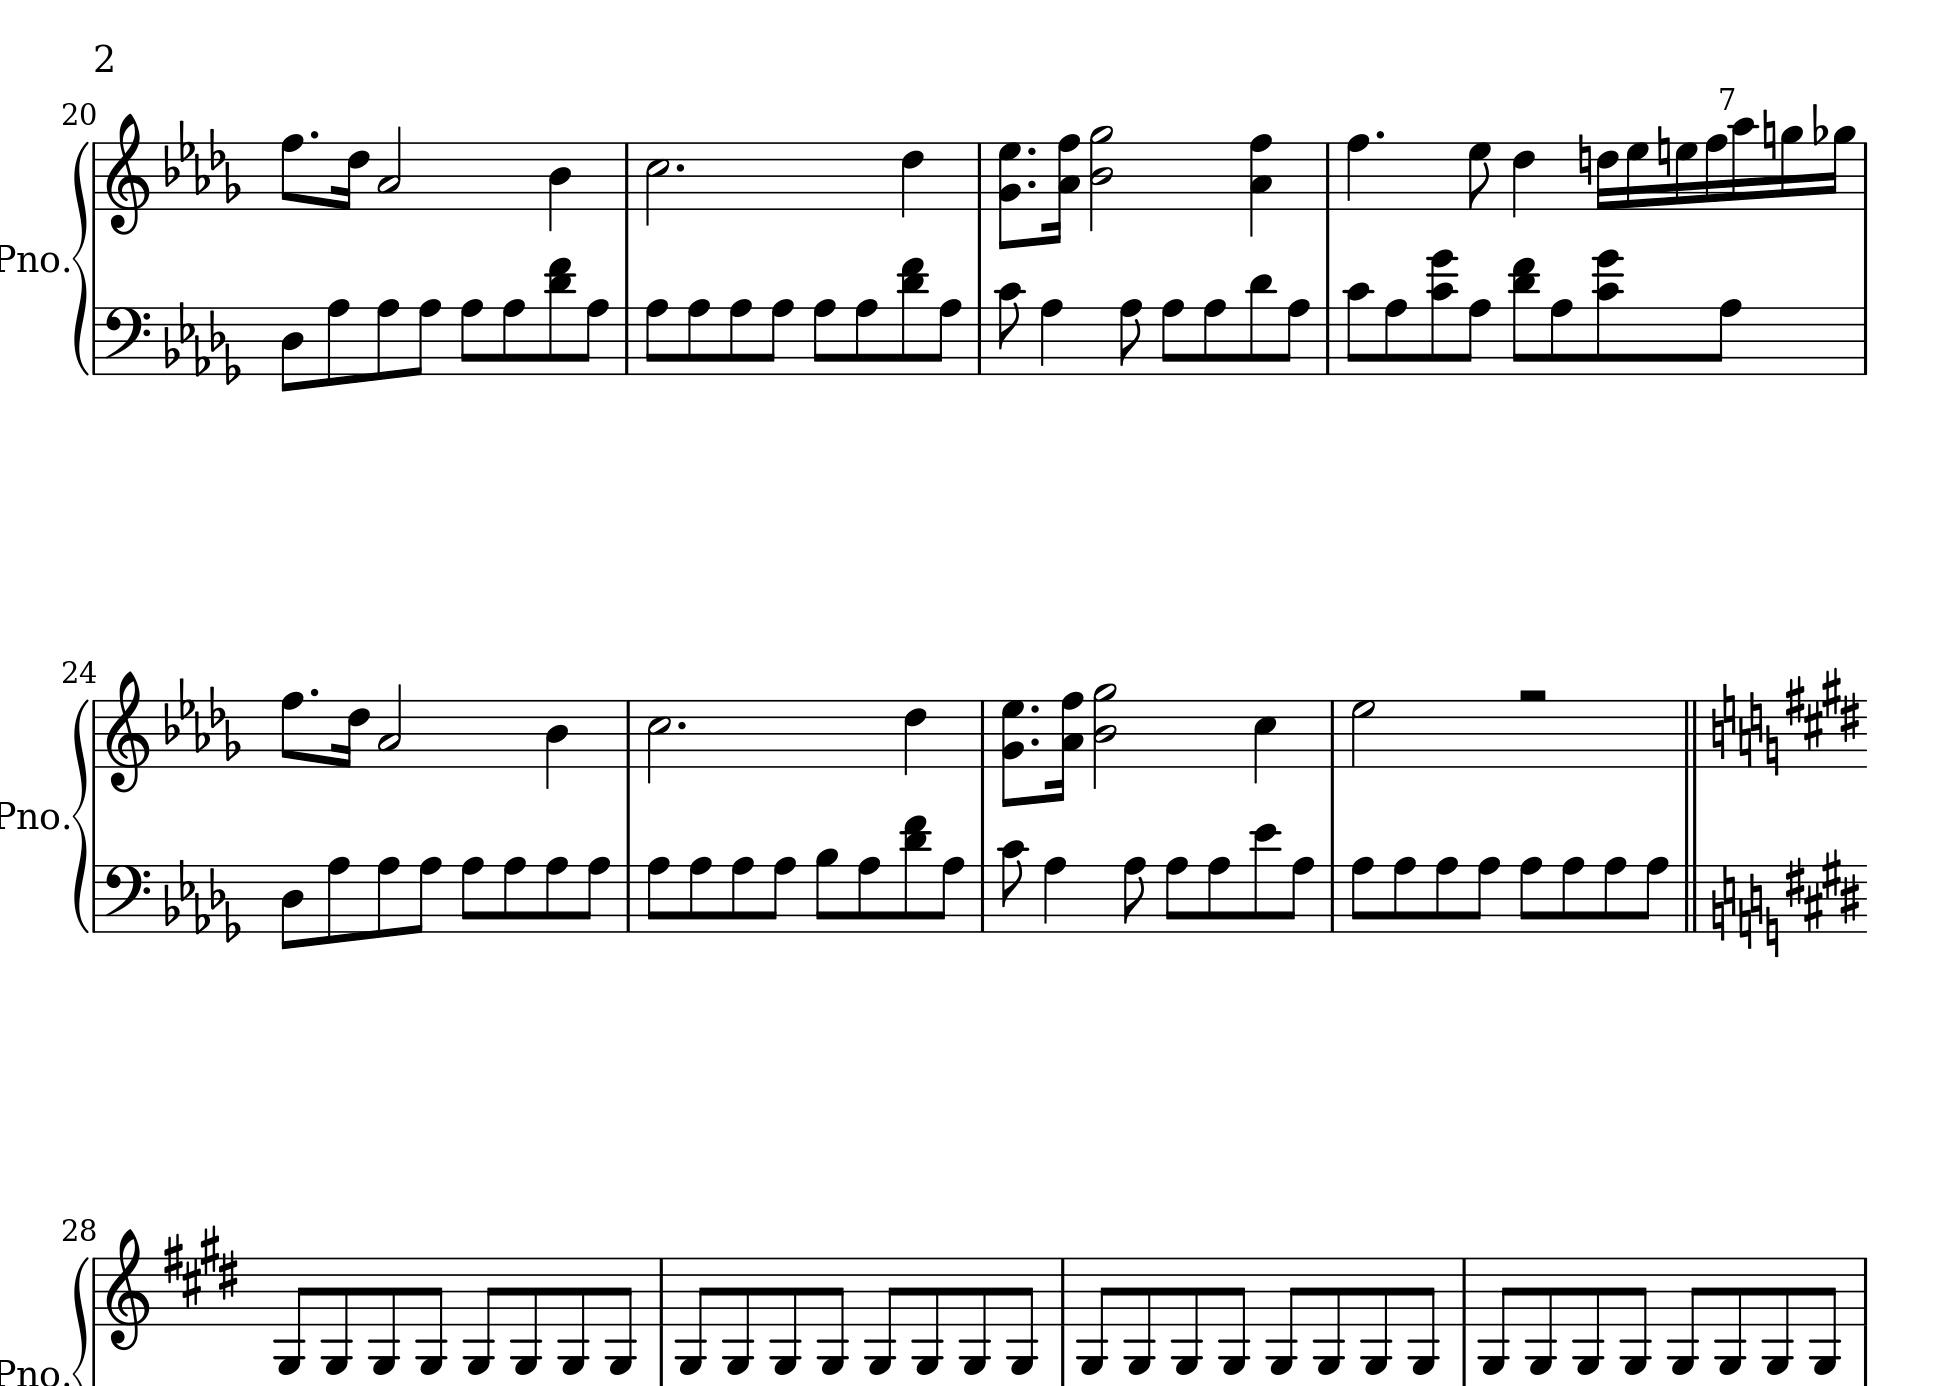0: (79, 99, 96, 126)
16_10: (1731, 115, 1758, 211)
16_3_8: (1041, 133, 1080, 244), (1047, 688, 1086, 799)
16_6: (333, 697, 370, 769), (334, 141, 370, 211), (1596, 139, 1620, 211)
16_7: (1626, 139, 1650, 211), (1674, 139, 1698, 211)
16_8: (1704, 132, 1728, 211)
16_9: (1825, 123, 1857, 211), (1779, 123, 1803, 211)
2: (91, 40, 114, 72), (60, 1216, 79, 1243), (60, 100, 78, 127), (60, 658, 78, 685)
2_3: (376, 124, 403, 211), (376, 682, 403, 768)
2_4_9: (1089, 124, 1116, 235), (1092, 681, 1119, 792)
2_5: (643, 141, 670, 226), (646, 697, 670, 784)
2_7: (1350, 697, 1377, 769)
4: (78, 658, 97, 685)
4_3_8: (1248, 133, 1275, 237)
4_4: (547, 141, 571, 232), (544, 699, 568, 790)
4_5: (1252, 697, 1278, 786)
4_6: (903, 697, 928, 777), (900, 139, 924, 219), (1512, 139, 1536, 217)
4_8: (1345, 132, 1371, 211), (1039, 297, 1065, 376), (1042, 855, 1068, 934)
7: (1717, 82, 1737, 112)
8: (79, 1215, 97, 1243)
8_-5: (273, 1254, 312, 1375), (1267, 1252, 1305, 1377), (1477, 1252, 1515, 1377), (463, 1254, 501, 1377), (675, 1254, 712, 1375), (1077, 1254, 1114, 1375), (1668, 1255, 1705, 1377), (865, 1255, 901, 1377), (1314, 1252, 1347, 1377), (1809, 1254, 1842, 1378), (606, 1252, 639, 1375), (769, 1254, 802, 1377), (960, 1252, 993, 1375), (1008, 1252, 1041, 1375), (1410, 1252, 1443, 1375), (1620, 1252, 1653, 1375), (321, 1254, 354, 1375), (817, 1254, 850, 1375), (511, 1252, 543, 1377), (558, 1252, 589, 1377), (723, 1252, 754, 1377), (1173, 1252, 1204, 1377), (1219, 1252, 1251, 1377), (1362, 1252, 1393, 1377), (1125, 1252, 1156, 1375), (1527, 1252, 1558, 1375), (1573, 1252, 1605, 1375), (1716, 1252, 1747, 1375), (1764, 1252, 1795, 1375), (369, 1254, 400, 1375), (417, 1255, 448, 1377), (913, 1254, 943, 1375)
8_10: (996, 280, 1026, 376), (999, 838, 1029, 933), (1344, 280, 1372, 376)
8_10_14: (1593, 247, 1626, 376), (1425, 249, 1458, 376)
8_11: (1248, 271, 1275, 376)
8_11_13: (544, 256, 574, 376), (1509, 256, 1539, 375), (900, 814, 930, 933), (898, 255, 925, 376)
8_12: (1251, 820, 1281, 934)
8_2_7: (997, 141, 1023, 252), (1000, 694, 1026, 805)
8_4: (279, 862, 304, 952), (279, 304, 304, 393)
8_7: (1468, 139, 1492, 210)
8_8: (1366, 853, 1402, 933), (1708, 297, 1743, 376), (409, 297, 442, 378), (409, 853, 442, 934), (577, 853, 610, 934), (763, 853, 796, 934), (931, 855, 964, 934), (322, 853, 351, 945), (1638, 853, 1669, 934), (322, 295, 349, 388), (577, 297, 609, 376), (762, 297, 793, 376), (930, 297, 961, 376), (1279, 297, 1311, 376), (1284, 855, 1315, 934), (1468, 855, 1500, 934), (1461, 297, 1491, 376), (373, 853, 400, 939), (375, 297, 400, 379), (279, 130, 304, 211), (1383, 297, 1408, 378), (1548, 297, 1573, 378), (279, 688, 304, 769), (645, 853, 670, 934), (1350, 853, 1375, 934), (459, 297, 484, 376), (501, 297, 526, 376), (643, 297, 669, 376), (685, 297, 711, 376), (727, 297, 753, 376), (811, 297, 837, 376), (853, 297, 879, 376), (856, 855, 882, 934), (1122, 855, 1147, 934), (1164, 855, 1189, 934), (1206, 855, 1231, 934), (1392, 855, 1417, 934), (1434, 855, 1459, 934), (1518, 855, 1543, 934), (502, 853, 526, 934), (1161, 297, 1185, 376), (1203, 297, 1227, 376), (460, 855, 484, 934), (544, 855, 568, 934), (688, 855, 712, 934), (730, 855, 754, 934), (1561, 855, 1585, 934), (1603, 855, 1627, 934), (1119, 298, 1143, 376)
8_9: (814, 847, 838, 934)
Brace: (70, 696, 90, 931), (72, 138, 90, 375)
D_F: (162, 676, 241, 762), (162, 118, 241, 201), (162, 298, 241, 381), (162, 856, 241, 939)
Double_barline: (1677, 700, 1707, 768), (1680, 864, 1702, 931)
E_S: (1785, 664, 1864, 754), (160, 1225, 241, 1309), (1780, 847, 1861, 930)
Fclef: (102, 304, 151, 375), (102, 861, 151, 931)
Flat: (1810, 102, 1828, 148)
Gclef: (103, 1225, 151, 1351), (103, 111, 151, 235), (103, 669, 151, 793)
Natural: (1761, 108, 1777, 163), (1656, 124, 1672, 178), (1722, 862, 1737, 918), (1578, 133, 1593, 187), (1750, 870, 1764, 928), (1711, 886, 1725, 942), (1765, 904, 1779, 958), (1713, 709, 1725, 763), (1723, 682, 1735, 736), (1767, 726, 1779, 778), (1738, 897, 1750, 949), (1740, 717, 1752, 769), (1750, 691, 1762, 744)
Pno: (1, 796, 61, 832), (1, 240, 61, 274), (1, 1354, 61, 1386)
Rests2: (1515, 682, 1551, 706)
Single_barline: (1053, 1258, 1074, 1324), (1323, 700, 1342, 766), (1455, 1258, 1474, 1324), (1857, 1255, 1875, 1326), (619, 864, 637, 931), (1323, 864, 1341, 931), (652, 1257, 670, 1324), (970, 142, 988, 208), (1320, 142, 1338, 208), (1320, 307, 1338, 373), (619, 700, 637, 766), (973, 700, 991, 766), (618, 142, 634, 210), (618, 306, 634, 373), (973, 864, 990, 931), (970, 307, 987, 373), (1857, 307, 1873, 373), (1858, 142, 1873, 208), (88, 1257, 102, 1326), (88, 307, 102, 373), (88, 700, 102, 766), (88, 865, 102, 930), (88, 142, 100, 208)
dot: (675, 717, 688, 733), (1374, 127, 1387, 142), (1029, 733, 1042, 748), (673, 159, 685, 175), (307, 127, 321, 141), (1026, 177, 1039, 190), (307, 685, 321, 699), (1026, 144, 1038, 157), (1029, 702, 1041, 715)
